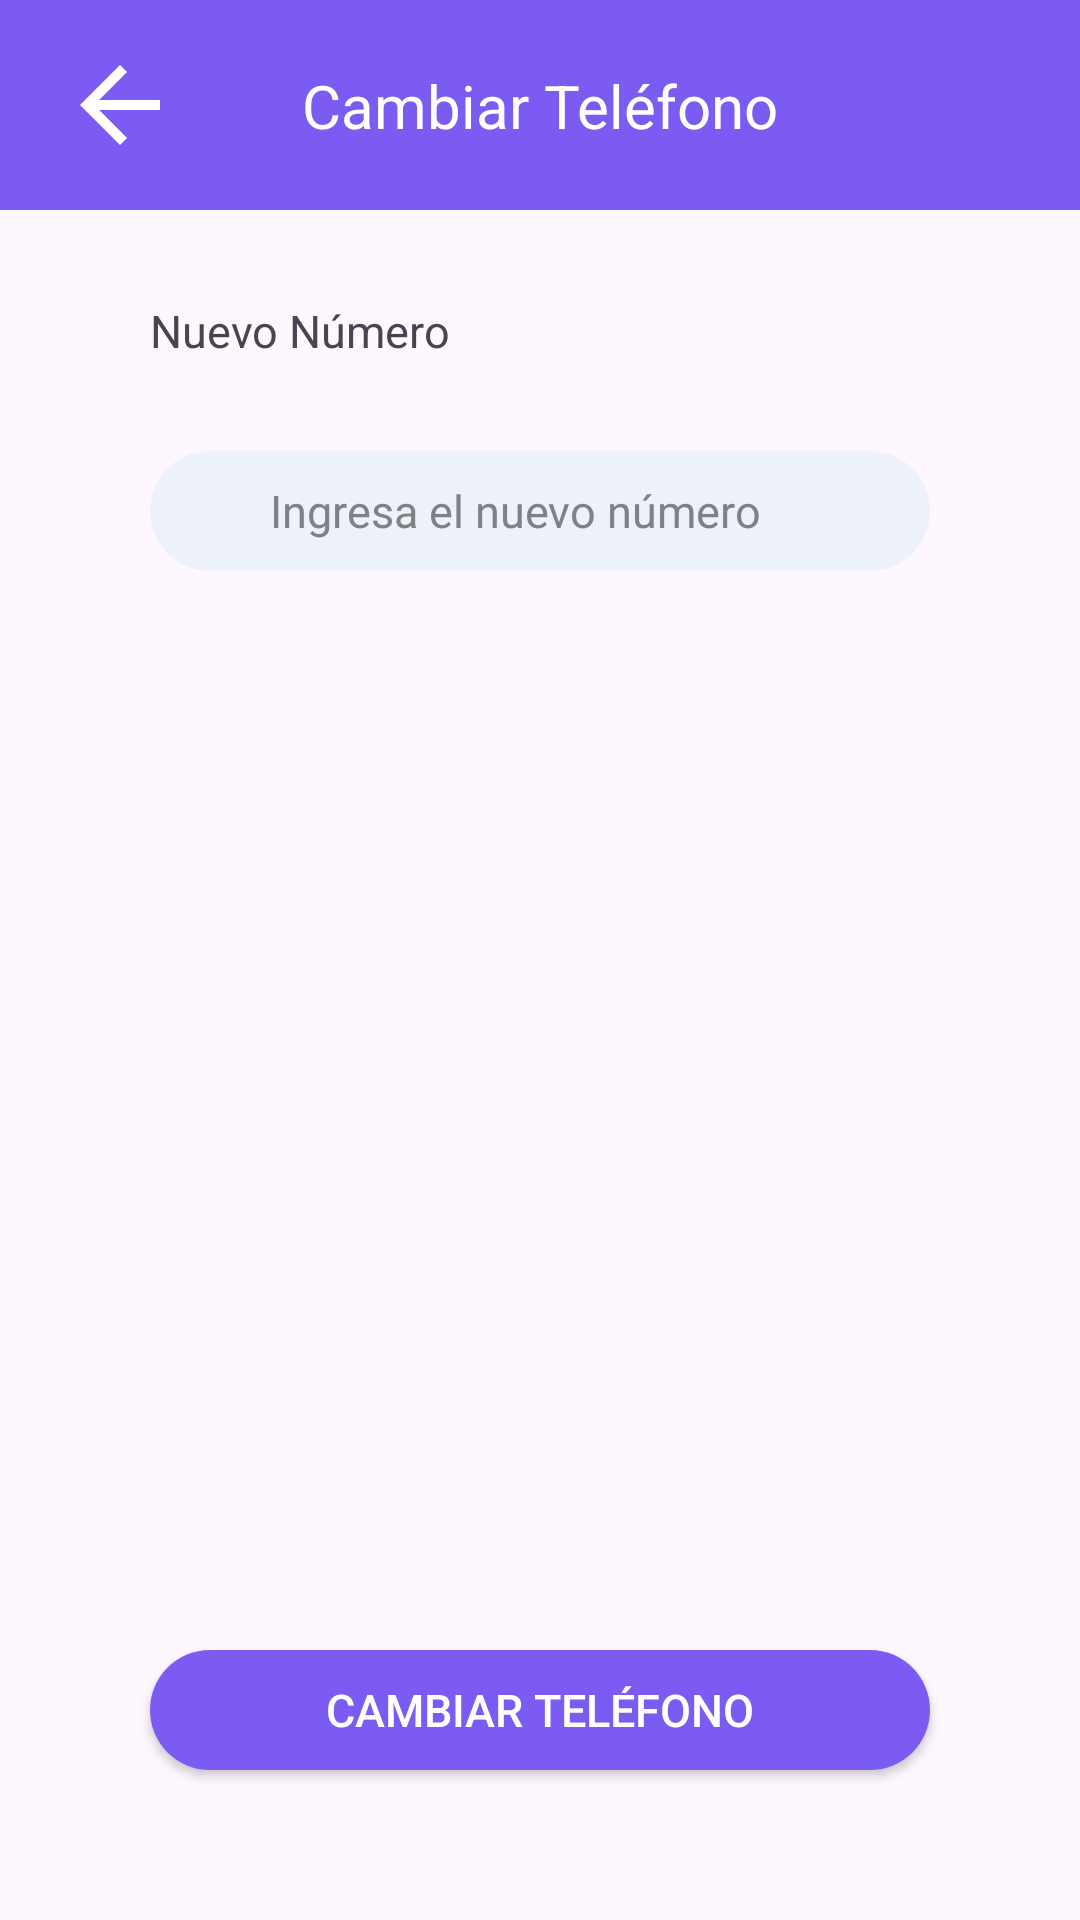

Icon click points for this 1080 × 1920 phone screenshot, format point (x, y):
back arrow: point (120, 105)
